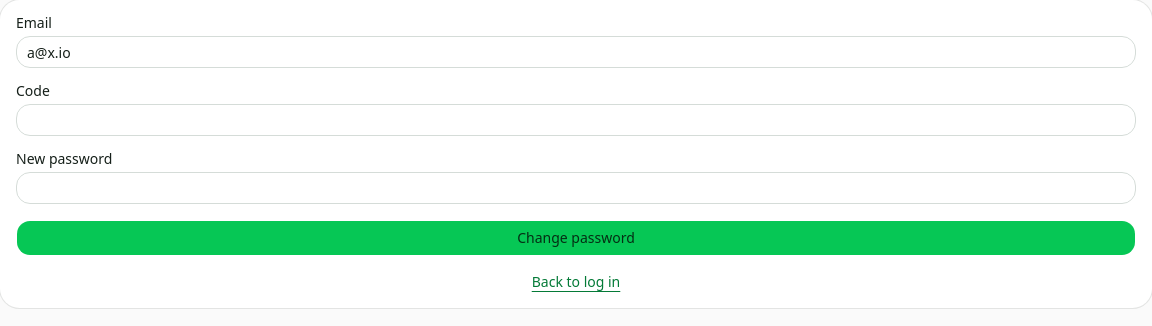
Test: a 204 shows 'Password changed' with a link to log in
Type "123456" into the field labelled "Code". click: (576, 120)
box: [16,104,1136,136]
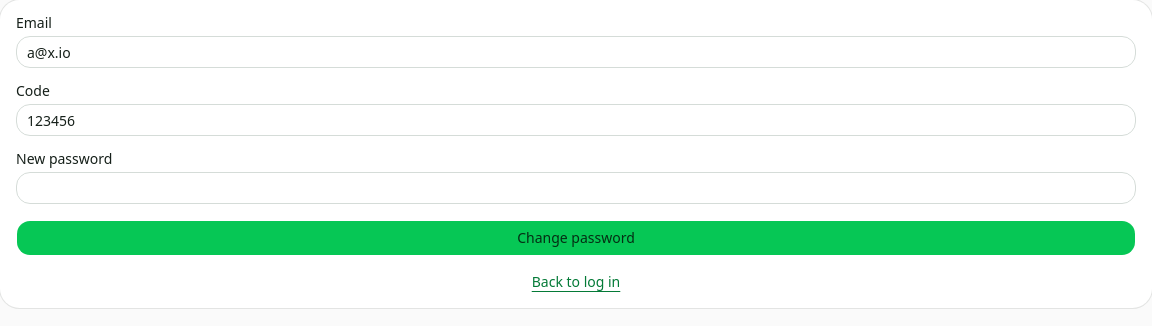
Type "a-brand-new-password" into the password field labelled "New password". click: (576, 188)
box: [16,172,1136,204]
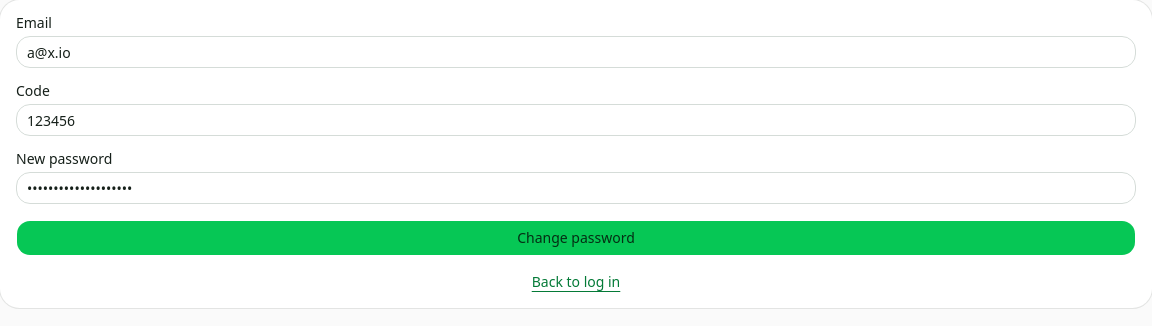
Click the button "Change password". click: click(576, 238)
box: [16,220,1136,256]
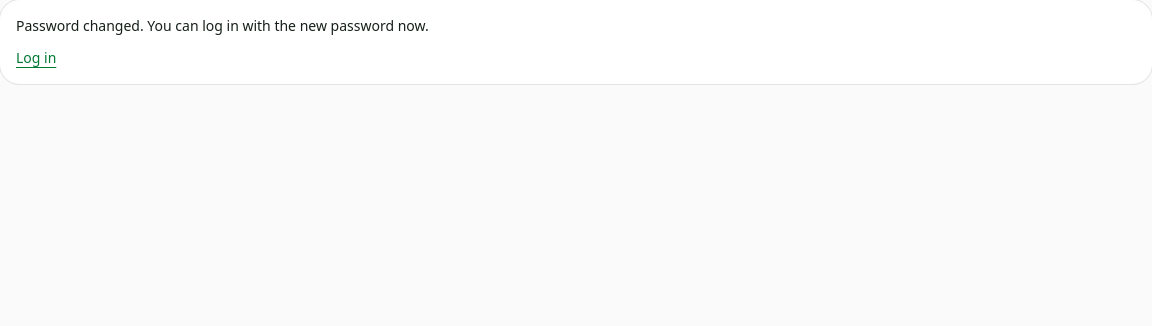
Expected: the message shows "Password changed", [16,16,429,35]
